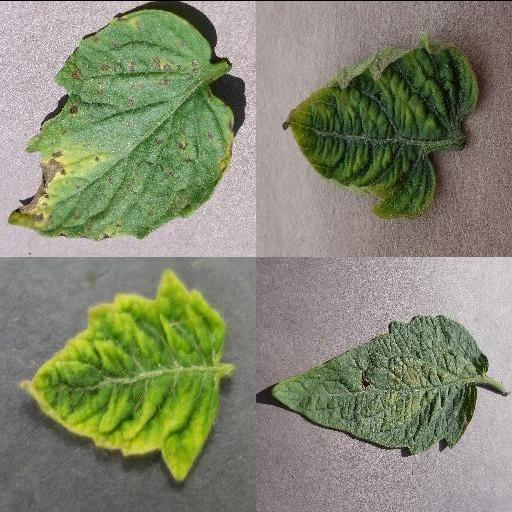Septoria: (7, 8, 235, 237)
Spider Mites: (270, 314, 488, 454)
Yellow Leaf Curl Virus: (17, 268, 227, 480), (282, 38, 478, 220)
